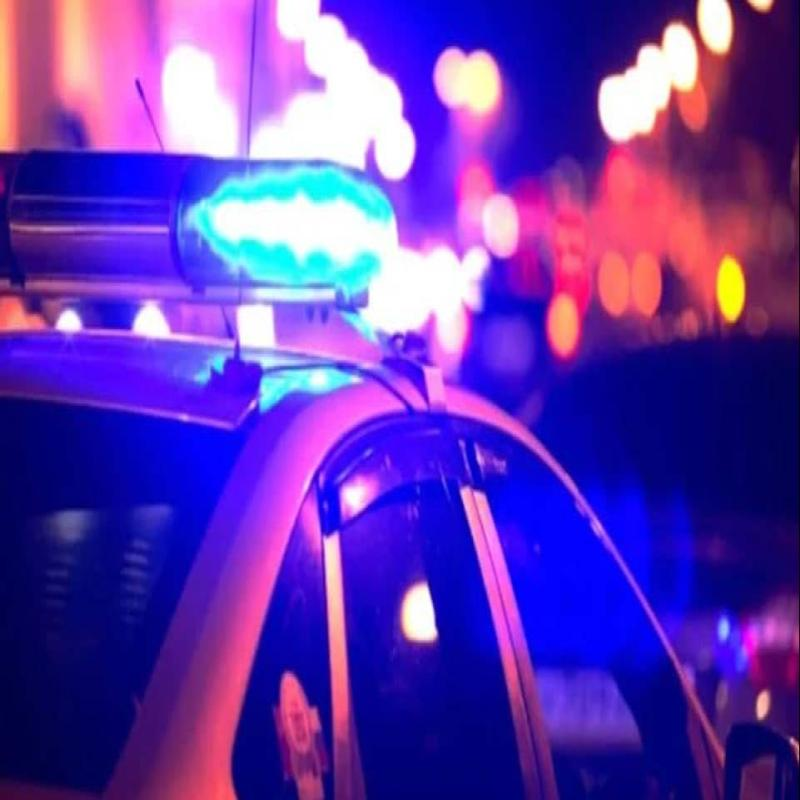AmbulanceSiren: (3, 81, 408, 361)
